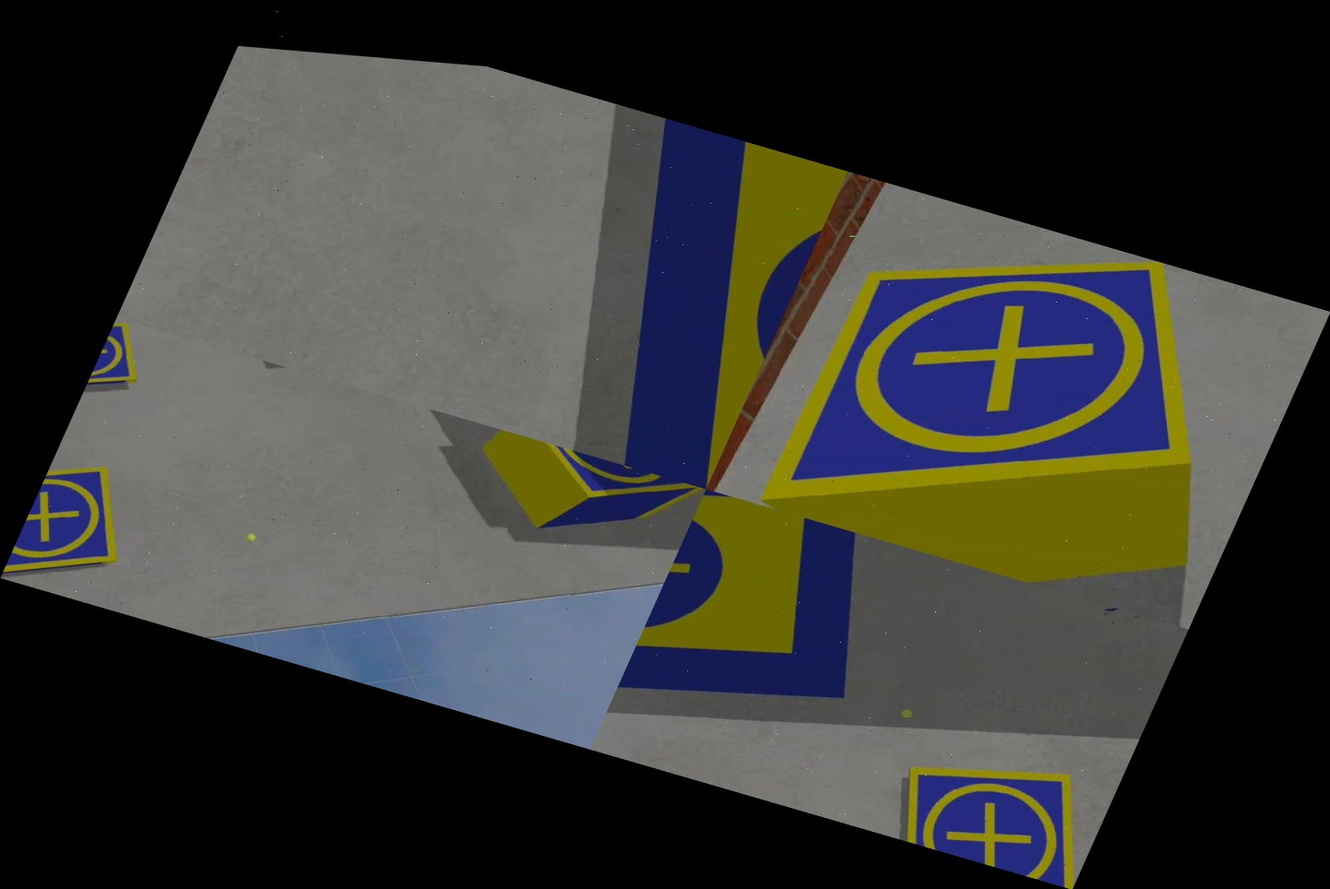large_base: (509, 114, 848, 489), (596, 489, 915, 796)
small_base: (706, 172, 1290, 618), (878, 729, 1118, 889), (476, 430, 706, 548), (0, 449, 159, 607), (77, 318, 164, 418)
